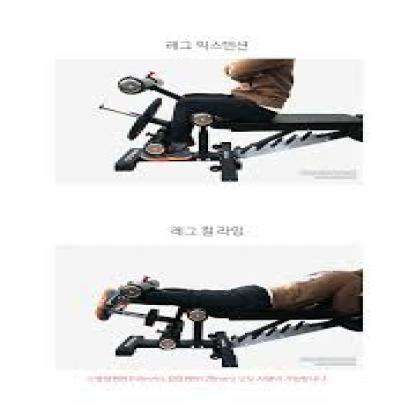reg curl machine: (88, 263, 362, 366)
